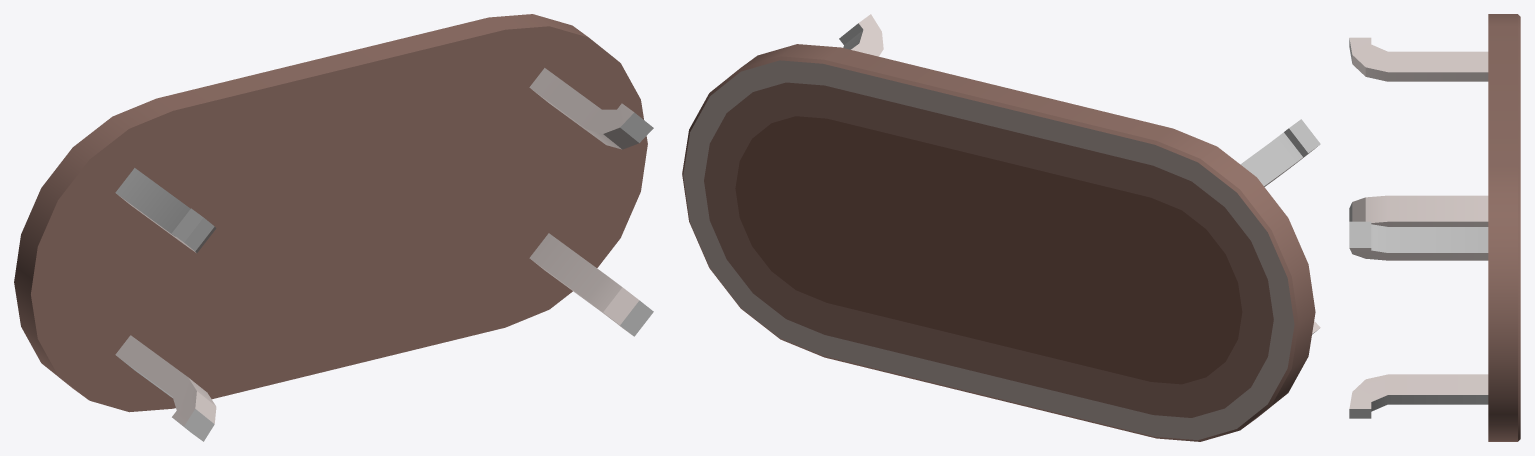
File: boardroom-table.glb
The picture shows the model from 3 angles, left to right: view 1: azimuth 30°, elevation 25°; view 2: azimuth 150°, elevation 25°; view 3: azimuth 270°, elevation 25°; orthographic projection. The views are drawn at different scales.
Parts seen in each view (by area): view 1: kitchen_table_009; view 2: kitchen_table_009; view 3: kitchen_table_009.
Part boxes in pixels (x1=…): kitchen_table_009: x1=14, y1=14, x2=653, y2=441; kitchen_table_009: x1=682, y1=14, x2=1320, y2=441; kitchen_table_009: x1=1349, y1=14, x2=1520, y2=441.
Size of the model in its own units: 2.79 by 1.29 by 0.7651.
1 material, 1 textured.
